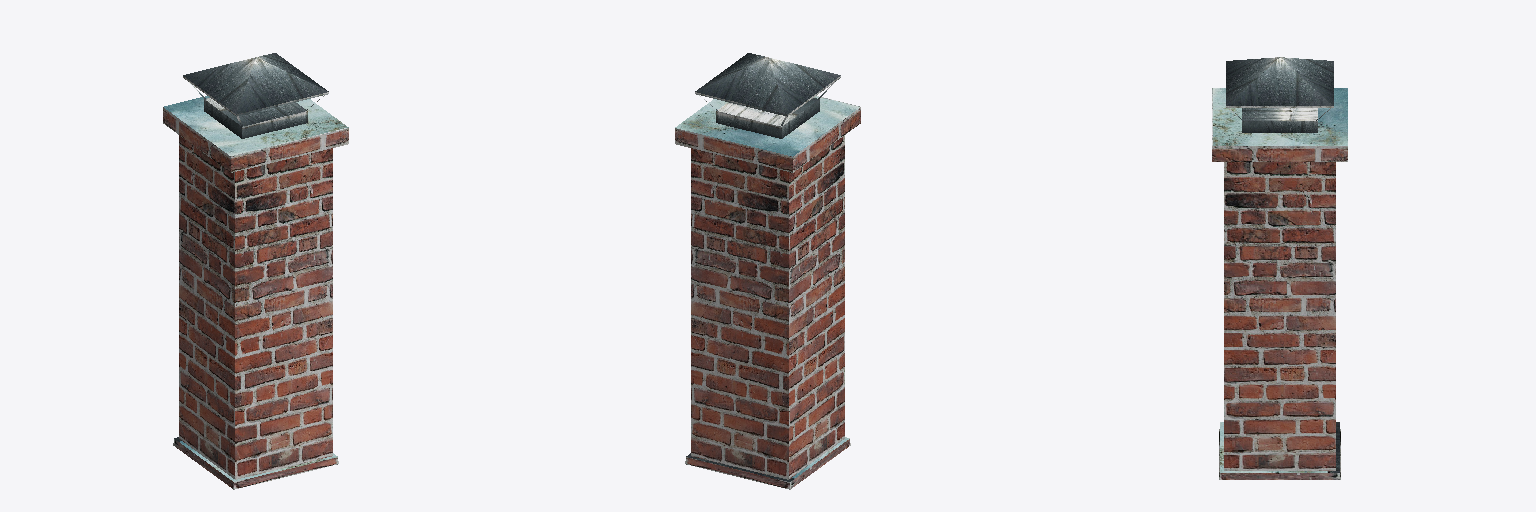
The picture shows the model from 3 angles: view 1: azimuth 30°, elevation 25°; view 2: azimuth 150°, elevation 25°; view 3: azimuth 270°, elevation 25°; orthographic projection.
Visible parts, largest first — view 1: chimney_4; view 2: chimney_4; view 3: chimney_4.
Boxes of the visible parts, box(x1,y1,x2,y2) form: chimney_4: box(163, 53, 348, 489); chimney_4: box(675, 53, 860, 489); chimney_4: box(1212, 57, 1347, 479).
Size of the model in its own units: 0.6719 by 2.16 by 0.6719.
Materials: 1 (1 with a texture image).